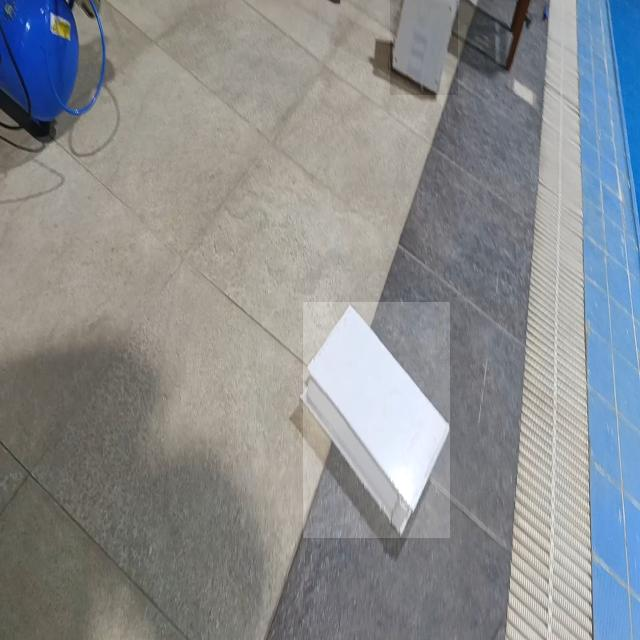Cube: (390, 0, 458, 95)
Cuboid: (303, 302, 450, 538)
